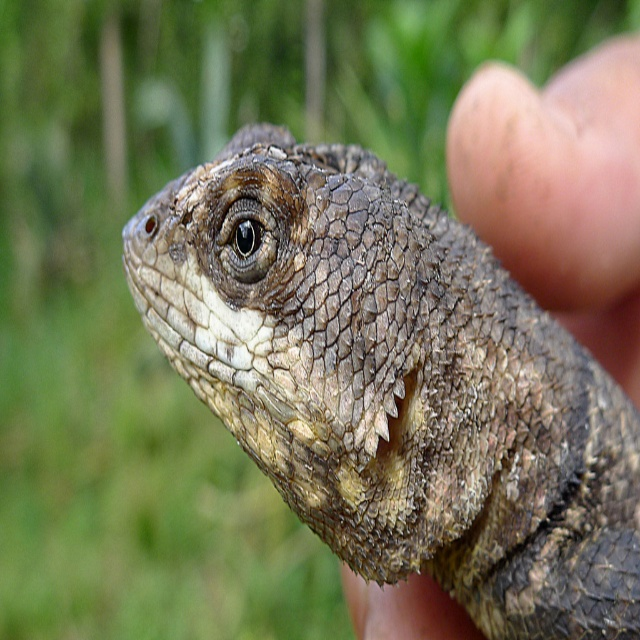Lizard: (128, 122, 640, 640)
